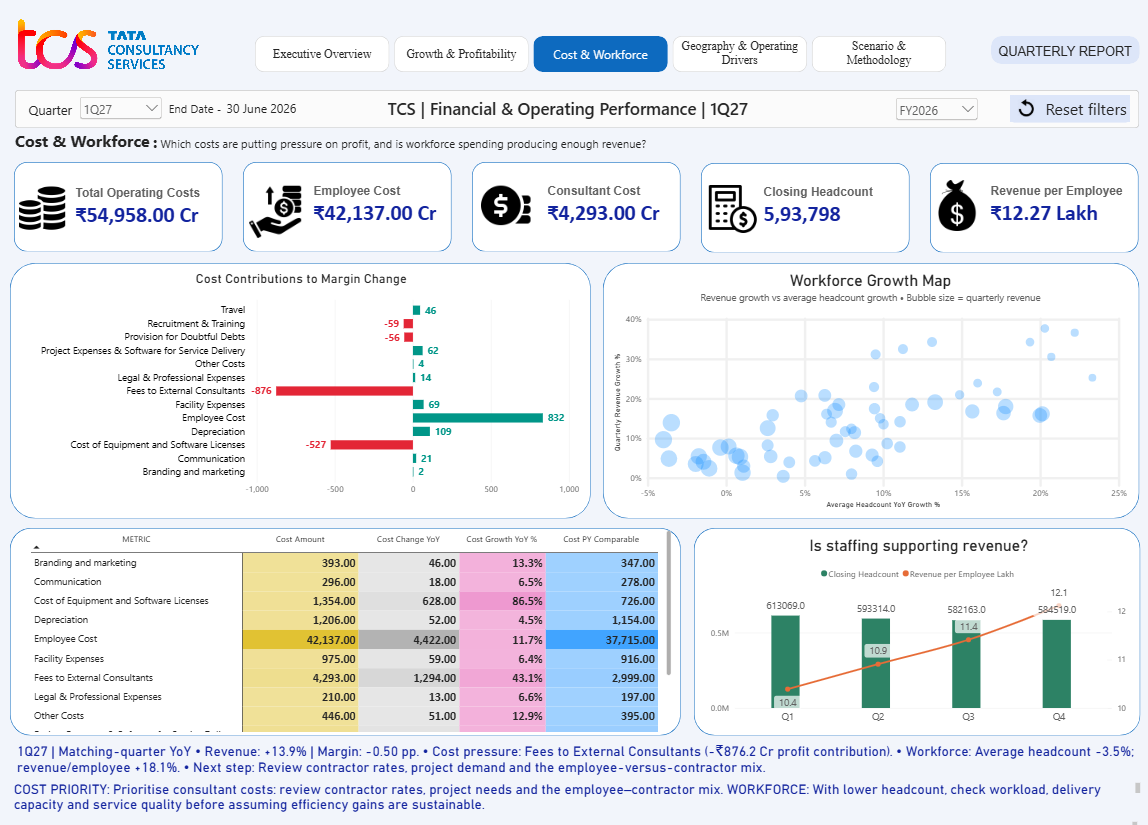

Layout of this report page (visuals, bound fields, positions):
{"tool":"powerbi","page":{"name":"Cost & Workforce","canvas":[1920,1380],"ordinal":2},"visuals":[{"type":"shape","box":[409,270.4,347.5,149.3],"z":0,"group":"g1"},{"type":"shape","box":[1160,880,744,346],"z":0},{"type":"shape","box":[27.3,269.8,347.5,149.3],"z":1000,"group":"g1"},{"type":"shape","box":[20,438,968,426],"z":1000},{"type":"group","id":"g1","title":"Group 2","box":[27.3,269.8,1874.3,151.8],"z":2000},{"type":"shape","box":[790.7,270.2,347.5,149.3],"z":2000,"group":"g1"},{"type":"shape","box":[29.1,149.5,1873.3,63.3],"z":3000},{"type":"shape","box":[1554.1,272.3,347.5,149.3],"z":3000,"group":"g1"},{"type":"image","box":[20,0,328.3,148.3],"z":4000},{"type":"shape","box":[1172.4,272.3,347.5,149.3],"z":4000,"group":"g1"},{"type":"pageNavigator","box":[429.1,60.7,1154.6,60.3],"z":5000},{"type":"slicer","fields":{"Values":["DimQuarter.PERIOD"]},"box":[131.5,157.5,145.9,54.9],"z":6000},{"type":"textbox","box":[49.1,167.6,83.3,34.5],"z":7000},{"type":"actionButton","box":[1687.4,157.7,199.1,46.1],"z":8000},{"type":"textbox","box":[1687.1,158.2,199.6,45.7],"z":8000,"group":"g2"},{"type":"group","id":"g2","title":"Group 1","box":[1687.1,158.2,199.6,45.7],"z":9000},{"type":"image","box":[1694.1,165.6,40.9,29.1],"z":9000,"group":"g2"},{"type":"textbox","box":[28.6,217.1,248.6,82.9],"z":10000},{"type":"cardVisual","fields":{"Data":["_m.Overview Title"]},"box":[632.8,148.8,752.7,63.6],"z":11000},{"type":"cardVisual","fields":{"Data":["Min(DimQuarter.QuarterEndDate)"]},"box":[365,148.1,206.7,63.3],"z":12000},{"type":"textbox","box":[278.3,168.3,100,34.4],"z":13000},{"type":"shape","box":[1654.4,60.6,247.8,46.7],"z":14000},{"type":"textbox","box":[1638.3,75,280,31.7],"z":15000},{"type":"textbox","box":[258.1,218,900.8,40.1],"z":16000},{"type":"cardVisual","fields":{"Data":["_m2.CW Total Operating Costs"]},"box":[113.3,253.3,288.3,185],"z":17000},{"type":"cardVisual","fields":{"Data":["_m2.CW Employee Cost"]},"box":[510,250,360,186],"z":18000},{"type":"cardVisual","fields":{"Data":["_m2.CW Closing Headcount"]},"box":[1260,252.2,360,186],"z":19000},{"type":"cardVisual","fields":{"Data":["_m2.CW Revenue per Employee Lakh"]},"box":[1638.3,250,281.7,186.7],"z":20000},{"type":"cardVisual","fields":{"Data":["_m2.CW Consultant Cost"]},"box":[900,250,360,186],"z":21000},{"type":"barChart","title":"Cost Contributions to Margin Change","fields":{"Category":["DimFinancialMetric.METRIC"],"Y":["_m2.CW Cost Margin Effect"]},"box":[26,438,958,408],"z":22000},{"type":"shape","box":[1008,438,894,426],"z":23000},{"type":"shape","box":[20,880,1118,346],"z":24000},{"type":"image","box":[1171.7,308.3,106.7,80],"z":25000},{"type":"image","box":[408.3,306.7,106.7,93.3],"z":26000},{"type":"image","box":[793.3,298.3,106.7,88.3],"z":27000},{"type":"image","box":[20,308.3,106.7,76.7],"z":28000},{"type":"image","box":[1545,300,106.7,85],"z":29000},{"type":"lineClusteredColumnComboChart","title":"Is staffing supporting revenue?","fields":{"Category":["DimQuarter.FiscalQuarter"],"Y":["_m2.CW Closing Headcount"],"Y2":["_m2.CW Revenue per Employee Lakh"]},"box":[1172,880,726,346],"z":30000},{"type":"slicer","fields":{"Values":["DimQuarter.FiscalYear"]},"box":[1491.7,158.3,145.9,54.9],"z":31000},{"type":"pivotTable","fields":{"Rows":["FactFinancials.METRIC"],"Values":["_m2.CW Cost Amount","_m2.CW Cost Change YoY","_m2.CW Cost Growth YoY %","_m2.CW Cost PY Comparable"]},"box":[38,870,1100,366],"z":32000},{"type":"scatterChart","title":"Workforce Growth Map","fields":{"X":["_m2.Average Headcount YoY Growth %"],"Y":["_m1.Quarterly Revenue Growth %"],"Category":["DimQuarter.PERIOD"],"Size":["_m2.CW Revenue"]},"box":[1010,438,888,426],"z":33000},{"type":"textbox","box":[32,1236,1872,86],"z":34000},{"type":"textbox","box":[26,1302,1872,78],"z":35000}]}

Visuals, with their boxes in screenshot pixels (x1, y1, x2, y2), scaled from the page's 1920x1380 canvas onto the 1148x825 screenshot:
shape: pyautogui.locateOnScreen(245, 162, 452, 251)
shape: pyautogui.locateOnScreen(694, 526, 1138, 733)
shape: pyautogui.locateOnScreen(16, 161, 224, 251)
shape: pyautogui.locateOnScreen(12, 262, 591, 517)
"Group 2" group: pyautogui.locateOnScreen(16, 161, 1137, 252)
shape: pyautogui.locateOnScreen(473, 162, 681, 251)
shape: pyautogui.locateOnScreen(17, 89, 1137, 127)
shape: pyautogui.locateOnScreen(929, 163, 1137, 252)
image: pyautogui.locateOnScreen(12, 0, 208, 89)
shape: pyautogui.locateOnScreen(701, 163, 909, 252)
pageNavigator: pyautogui.locateOnScreen(257, 36, 947, 72)
slicer - DimQuarter.PERIOD: pyautogui.locateOnScreen(79, 94, 166, 127)
textbox: pyautogui.locateOnScreen(29, 100, 79, 121)
actionButton: pyautogui.locateOnScreen(1009, 94, 1128, 122)
textbox: pyautogui.locateOnScreen(1009, 95, 1128, 122)
"Group 1" group: pyautogui.locateOnScreen(1009, 95, 1128, 122)
image: pyautogui.locateOnScreen(1013, 99, 1037, 116)
textbox: pyautogui.locateOnScreen(17, 130, 166, 179)
cardVisual - _m.Overview Title: pyautogui.locateOnScreen(378, 89, 828, 127)
cardVisual - Min(DimQuarter.QuarterEndDate): pyautogui.locateOnScreen(218, 89, 342, 126)
textbox: pyautogui.locateOnScreen(166, 101, 226, 121)
shape: pyautogui.locateOnScreen(989, 36, 1137, 64)
textbox: pyautogui.locateOnScreen(980, 45, 1147, 64)
textbox: pyautogui.locateOnScreen(154, 130, 693, 154)
cardVisual - _m2.CW Total Operating Costs: pyautogui.locateOnScreen(68, 151, 240, 262)
cardVisual - _m2.CW Employee Cost: pyautogui.locateOnScreen(305, 149, 520, 261)
cardVisual - _m2.CW Closing Headcount: pyautogui.locateOnScreen(753, 151, 969, 262)
cardVisual - _m2.CW Revenue per Employee Lakh: pyautogui.locateOnScreen(980, 149, 1147, 261)
cardVisual - _m2.CW Consultant Cost: pyautogui.locateOnScreen(538, 149, 753, 261)
"Cost Contributions to Margin Change" barChart: pyautogui.locateOnScreen(16, 262, 588, 506)
shape: pyautogui.locateOnScreen(603, 262, 1137, 517)
shape: pyautogui.locateOnScreen(12, 526, 680, 733)
image: pyautogui.locateOnScreen(701, 184, 764, 232)
image: pyautogui.locateOnScreen(244, 183, 308, 239)
image: pyautogui.locateOnScreen(474, 178, 538, 231)
image: pyautogui.locateOnScreen(12, 184, 76, 230)
image: pyautogui.locateOnScreen(924, 179, 988, 230)
"Is staffing supporting revenue?" lineClusteredColumnComboChart: pyautogui.locateOnScreen(701, 526, 1135, 733)
slicer - DimQuarter.FiscalYear: pyautogui.locateOnScreen(892, 95, 979, 127)
pivotTable - FactFinancials.METRIC x _m2.CW Cost Amount: pyautogui.locateOnScreen(23, 520, 680, 739)
"Workforce Growth Map" scatterChart: pyautogui.locateOnScreen(604, 262, 1135, 517)
textbox: pyautogui.locateOnScreen(19, 739, 1138, 790)
textbox: pyautogui.locateOnScreen(16, 778, 1135, 824)
